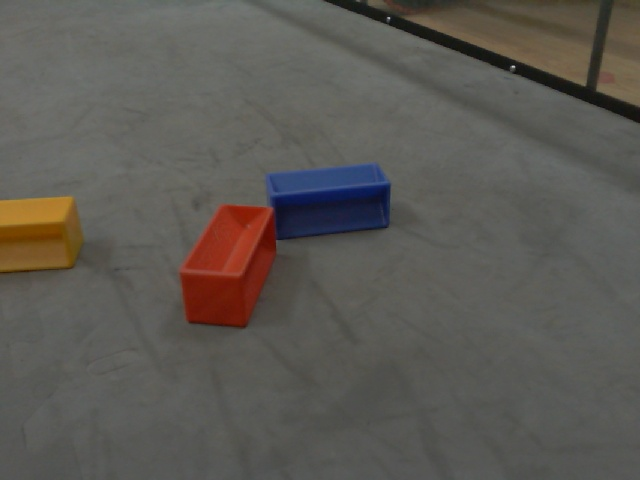BlueSample: (260, 162, 395, 238)
RedSample: (177, 194, 279, 334)
YellowSample: (1, 194, 90, 273)
